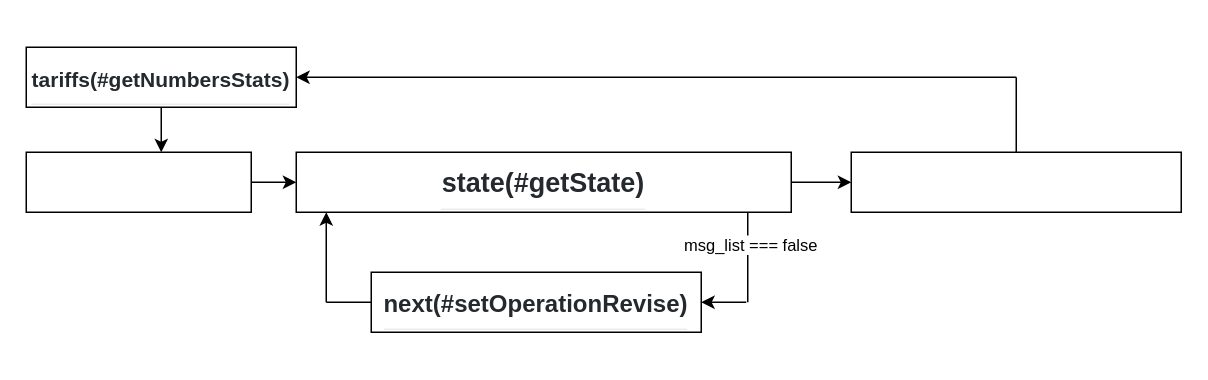
This 1208x380 diagram has some shape labels left out. Here are the shapes that lost their labels. From the top down, the centre of each, then its label:
At point 138,181: "get(#getNum)".
At point 1015,181: "close(#setOperationOk)".
